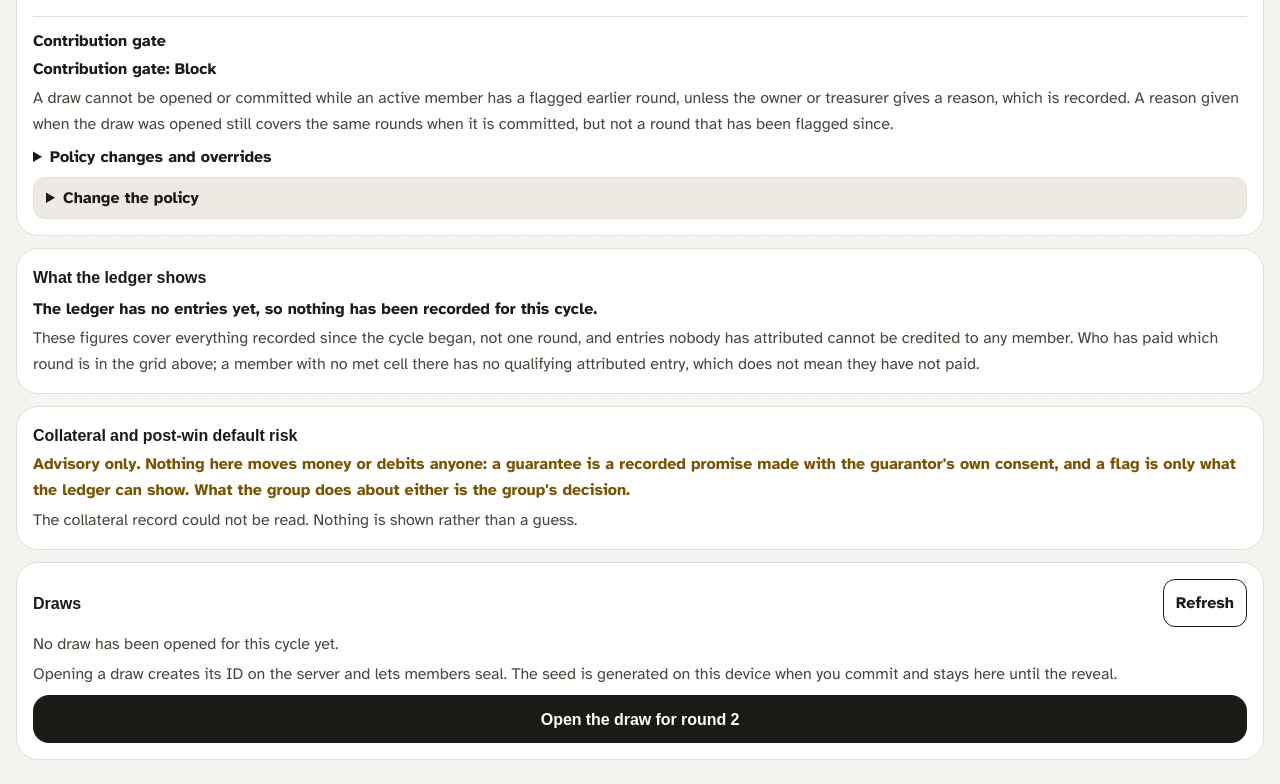
/draw: opening a draw under each policy › a refusal the screen did not predict (the grid was stale) is shown in words and the grid is read again
The width and height of the screenshot is (1280, 784).
(page scrolled)
Click the button with test id "open-draw": (640, 719) [33,695,1247,743]
(page scrolled)
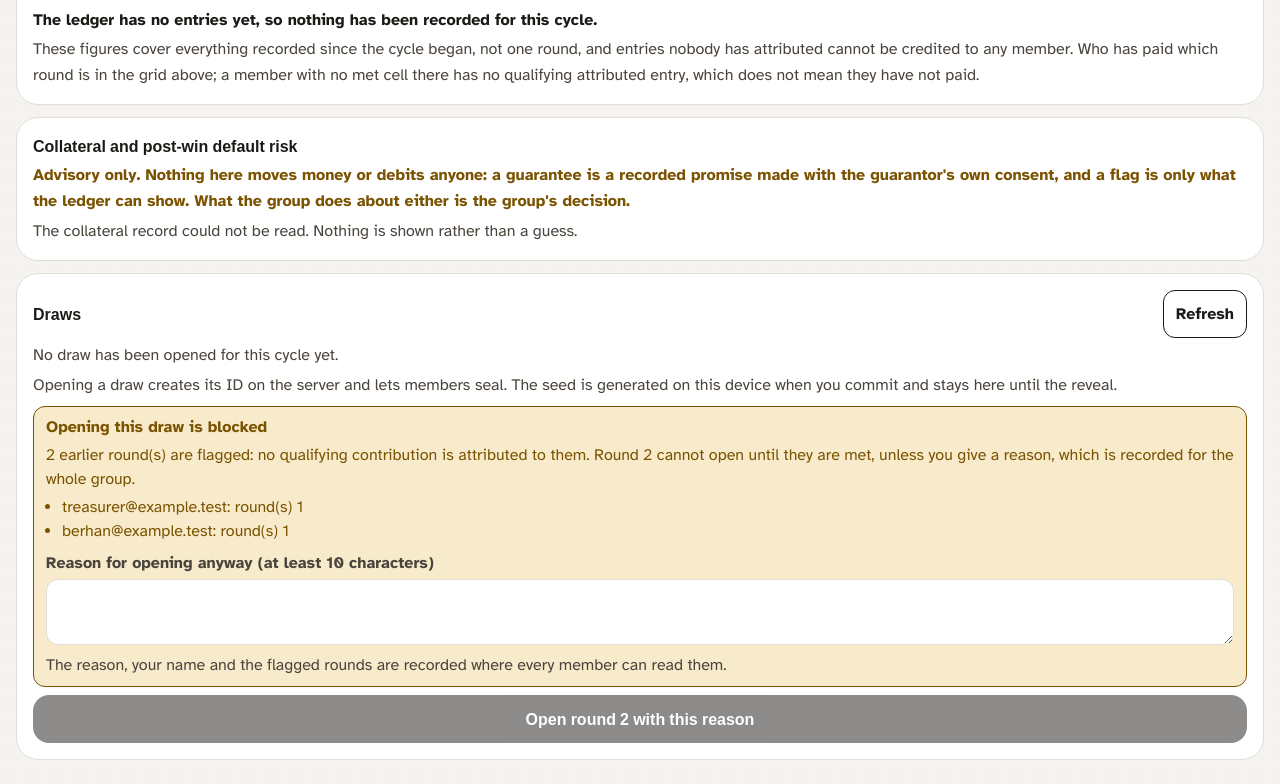
Expected: the message with test id "open-gate" shows "Opening this draw is blocked", [46,417,267,437]
